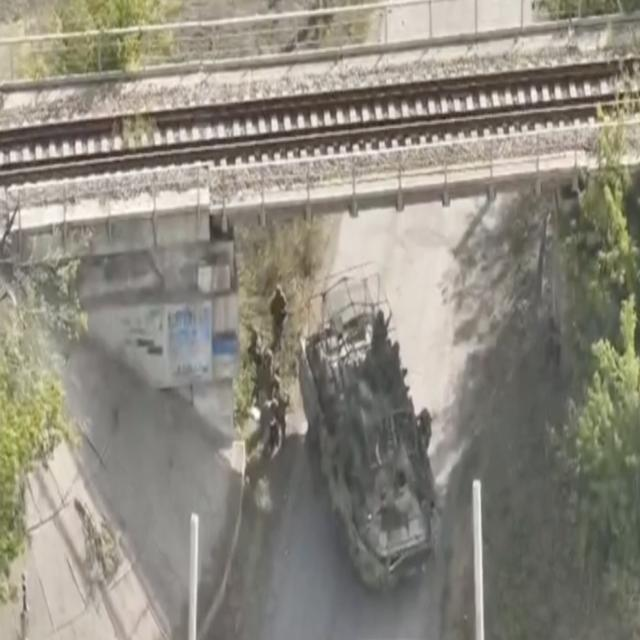infantry: (270, 280, 292, 358), (260, 394, 279, 460), (278, 390, 292, 445), (416, 407, 432, 455), (262, 344, 276, 396), (250, 319, 261, 376)
vehicle: (298, 263, 436, 589)
